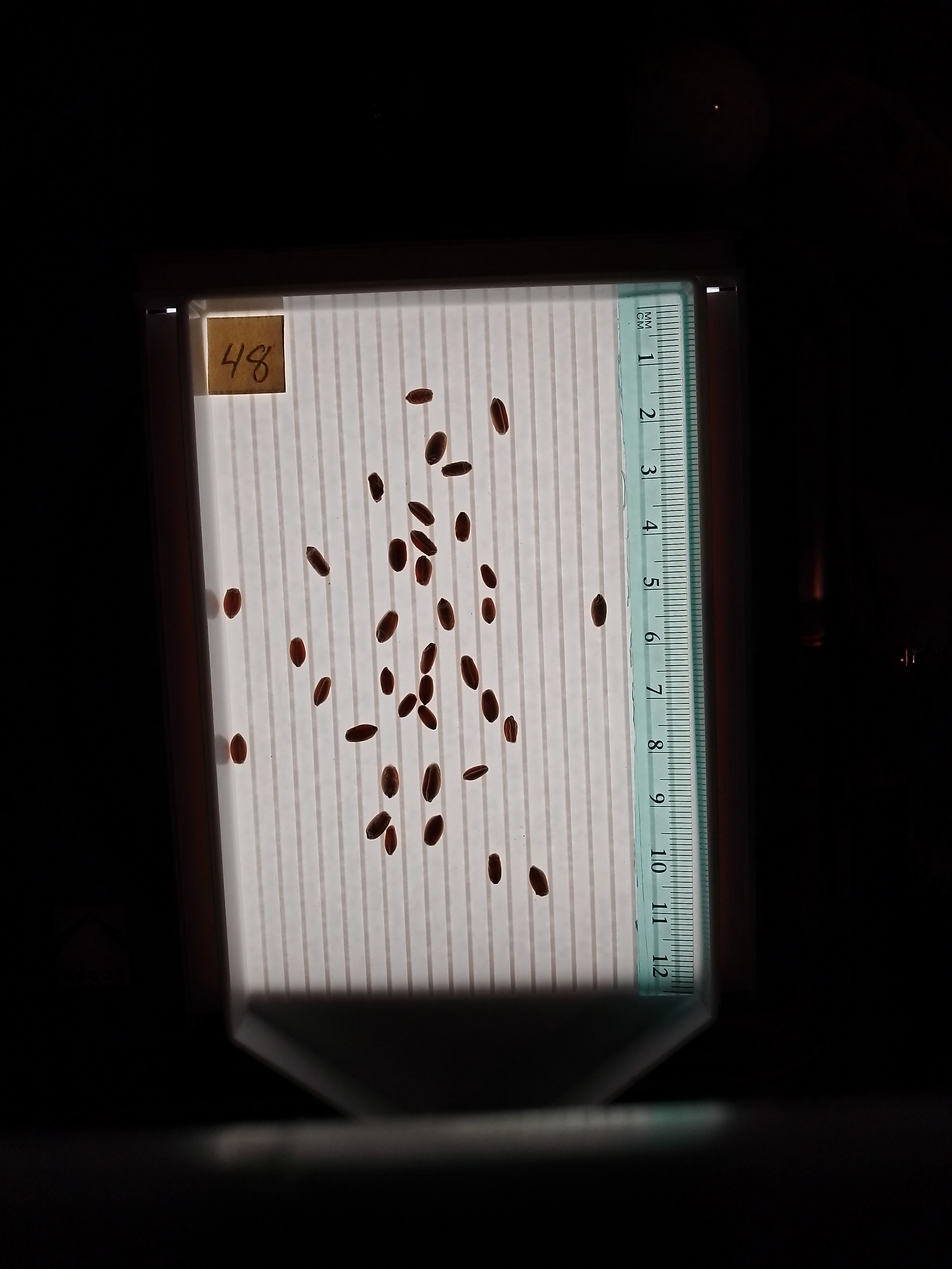seed mask: (422, 764, 441, 802), (425, 432, 446, 465), (376, 612, 398, 643), (306, 547, 329, 576), (490, 398, 508, 435), (411, 530, 436, 556), (366, 812, 390, 839), (424, 815, 444, 846), (409, 502, 434, 526), (529, 867, 549, 897), (381, 765, 399, 798), (389, 539, 407, 571), (437, 598, 455, 630), (346, 724, 376, 743), (461, 656, 478, 689), (482, 691, 499, 722), (224, 588, 241, 618), (415, 556, 432, 586), (420, 644, 437, 674), (313, 677, 331, 705), (591, 595, 607, 626), (368, 473, 385, 501), (231, 735, 247, 764), (464, 764, 488, 783), (418, 706, 437, 730), (455, 513, 470, 542), (488, 854, 503, 883), (290, 638, 305, 667), (407, 388, 432, 405), (443, 461, 471, 476), (504, 716, 519, 743), (419, 675, 433, 703), (480, 565, 497, 588), (399, 694, 416, 717), (384, 826, 397, 855), (380, 668, 394, 694), (482, 598, 495, 623)
